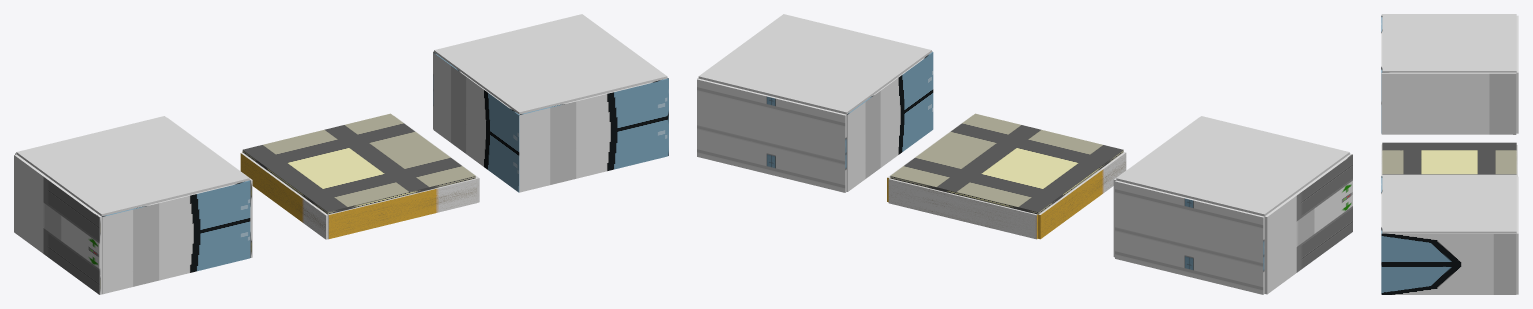
Rendered from Normal_Final.fbx.
The picture shows the model from 3 angles, left to right: view 1: azimuth 30°, elevation 25°; view 2: azimuth 150°, elevation 25°; view 3: azimuth 270°, elevation 25°; orthographic projection. The views are drawn at different scales.
Visible parts, largest first — view 1: Cube.061, Cube.157, Cube.205, Cube.151, Cube.202, Cube.203, Cube.150, Cube.040, Cube.039; view 2: Cube.061, Cube.205, Cube.157, Cube.227, Cube.225, Cube.203, Cube.150, Cube.010, Cube.039; view 3: Cube.204, Cube.152, Cube.157, Cube.205, Cube.061, Cube.227, Cube.225, Cube.202, Cube.151.
Boxes of the visible parts, x1=… form: Cube.061: x1=242, y1=113, x2=475, y2=214; Cube.157: x1=434, y1=14, x2=667, y2=114; Cube.205: x1=16, y1=116, x2=249, y2=216; Cube.151: x1=519, y1=79, x2=667, y2=192; Cube.202: x1=102, y1=180, x2=250, y2=294; Cube.203: x1=14, y1=154, x2=101, y2=294; Cube.150: x1=433, y1=52, x2=519, y2=192; Cube.040: x1=328, y1=178, x2=476, y2=238; Cube.039: x1=240, y1=152, x2=328, y2=239; Cube.061: x1=890, y1=113, x2=1123, y2=214; Cube.205: x1=1116, y1=116, x2=1349, y2=216; Cube.157: x1=698, y1=14, x2=931, y2=114; Cube.227: x1=697, y1=78, x2=846, y2=192; Cube.225: x1=1115, y1=180, x2=1264, y2=294; Cube.203: x1=1264, y1=154, x2=1352, y2=294; Cube.150: x1=846, y1=52, x2=933, y2=191; Cube.010: x1=888, y1=178, x2=1037, y2=239; Cube.039: x1=1038, y1=152, x2=1126, y2=239; Cube.204: x1=1381, y1=72, x2=1516, y2=134; Cube.152: x1=1381, y1=233, x2=1516, y2=294; Cube.157: x1=1382, y1=174, x2=1516, y2=233; Cube.205: x1=1382, y1=14, x2=1516, y2=72; Cube.061: x1=1382, y1=142, x2=1516, y2=174; Cube.227: x1=1516, y1=176, x2=1518, y2=294; Cube.225: x1=1516, y1=15, x2=1518, y2=133; Cube.202: x1=1381, y1=15, x2=1382, y2=133; Cube.151: x1=1381, y1=176, x2=1382, y2=293.
Size of the model in its own units: 19615 by 2646 by 5197.
Materials: 23 (15 with a texture image).
